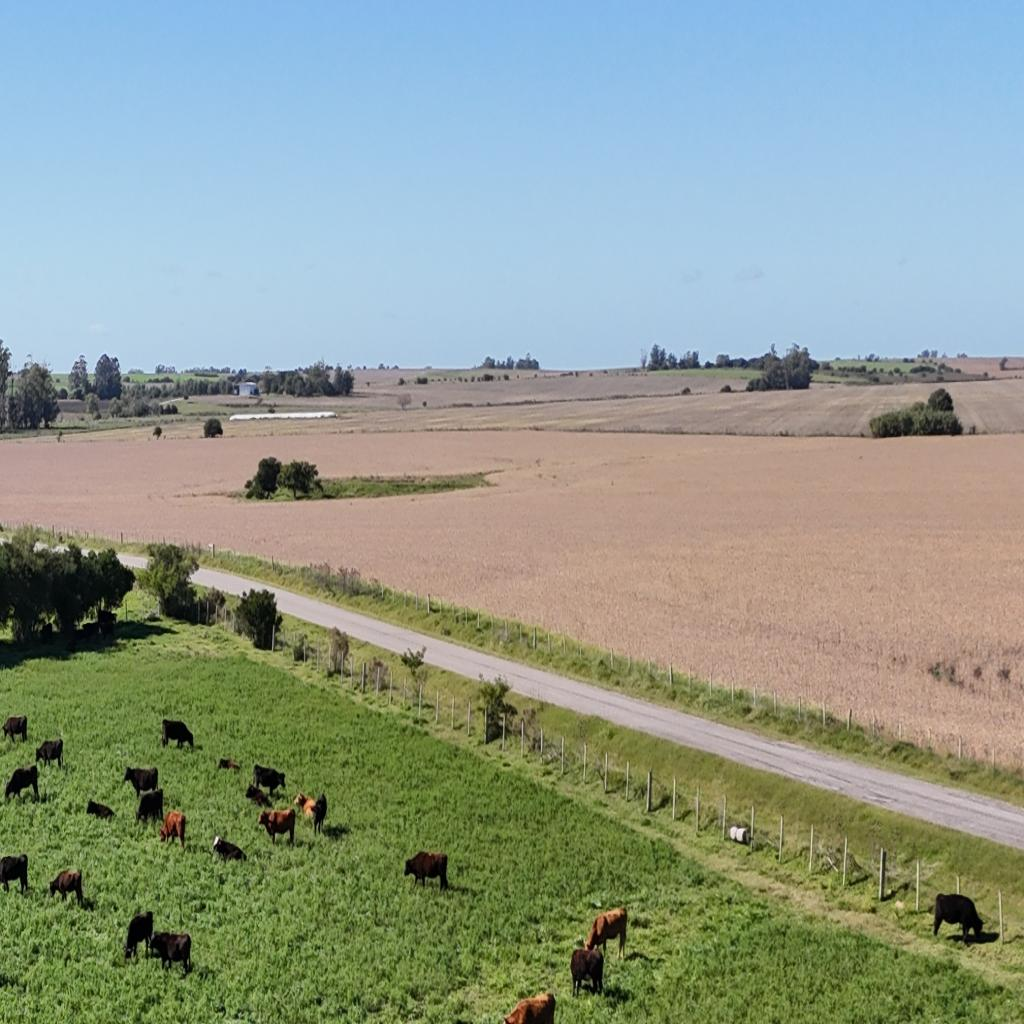cow: (933, 893, 983, 942), (584, 906, 626, 961), (149, 930, 193, 976), (405, 850, 449, 891), (570, 945, 604, 998), (122, 909, 154, 961), (502, 992, 554, 1024), (257, 808, 295, 846), (48, 868, 84, 906), (4, 765, 39, 803), (0, 853, 29, 894), (123, 765, 159, 798), (306, 794, 332, 838), (252, 764, 286, 797), (135, 789, 163, 827), (161, 718, 194, 750), (159, 810, 186, 849), (211, 834, 246, 862), (36, 738, 64, 770), (1, 714, 28, 744), (86, 800, 114, 820), (248, 786, 271, 810), (293, 792, 315, 815), (220, 758, 240, 771)
